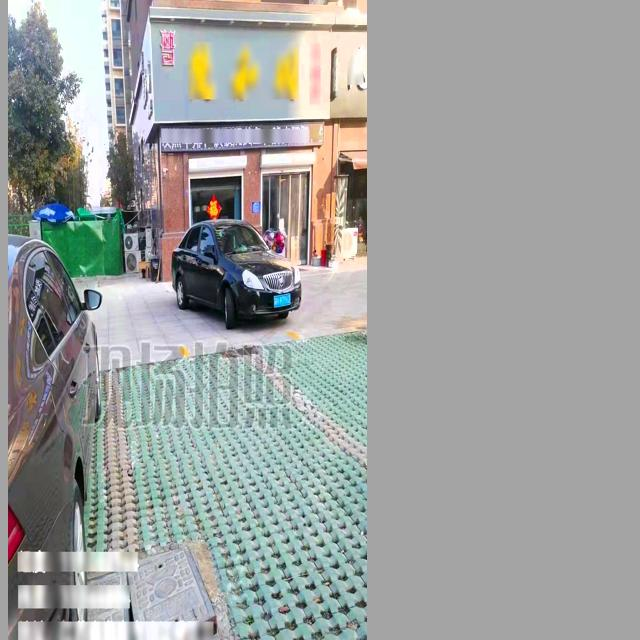uncovered: (85, 545, 223, 640)
